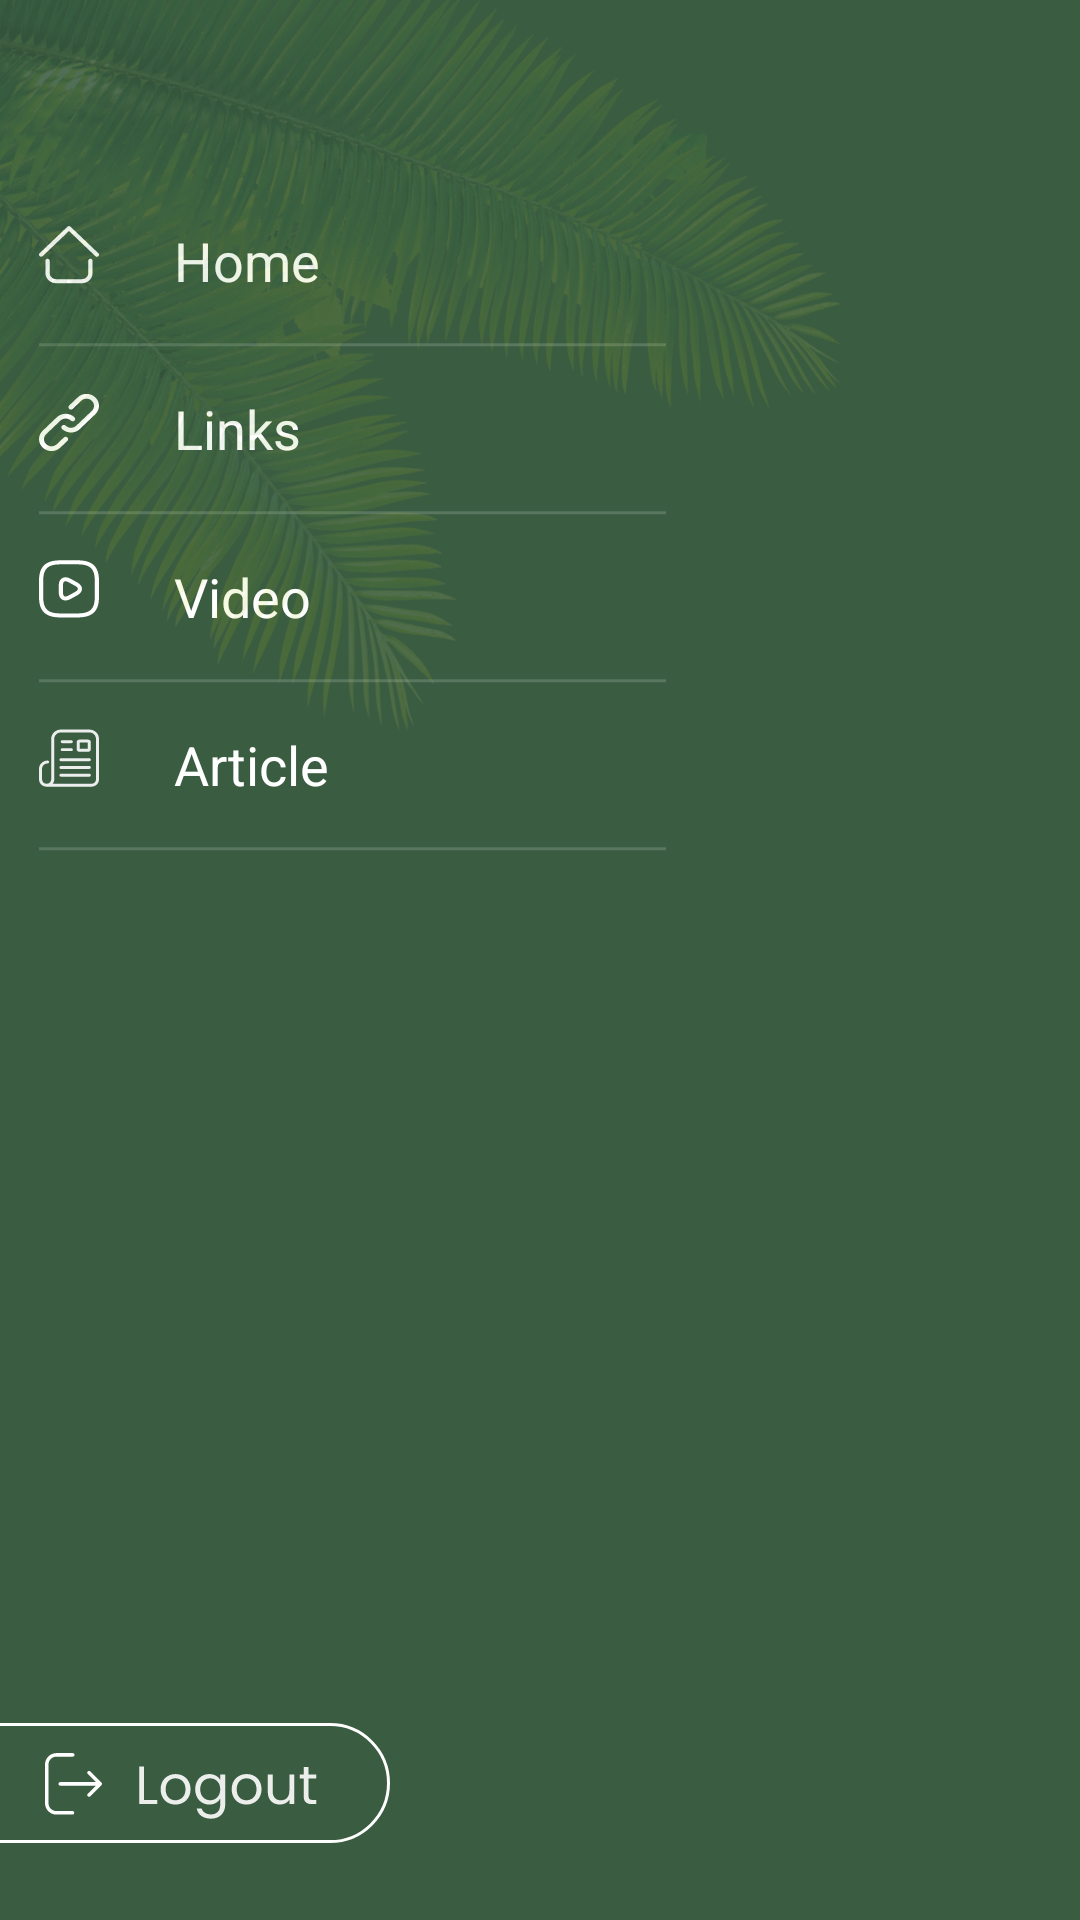

Named icons in this screenshot (1080 x 1920) and their centers, [x,y]:
side article: [69,758]
side link: [69,422]
side video: [69,589]
